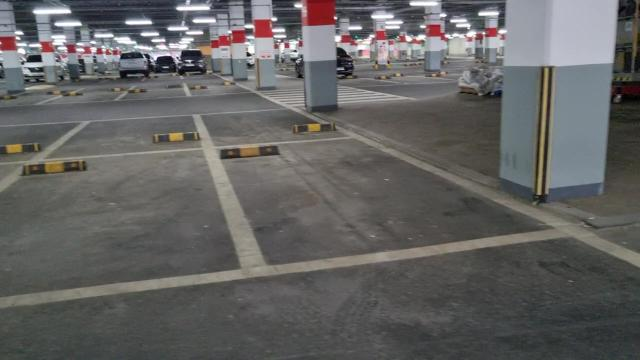empty: (202, 131, 552, 279), (1, 148, 268, 306)
